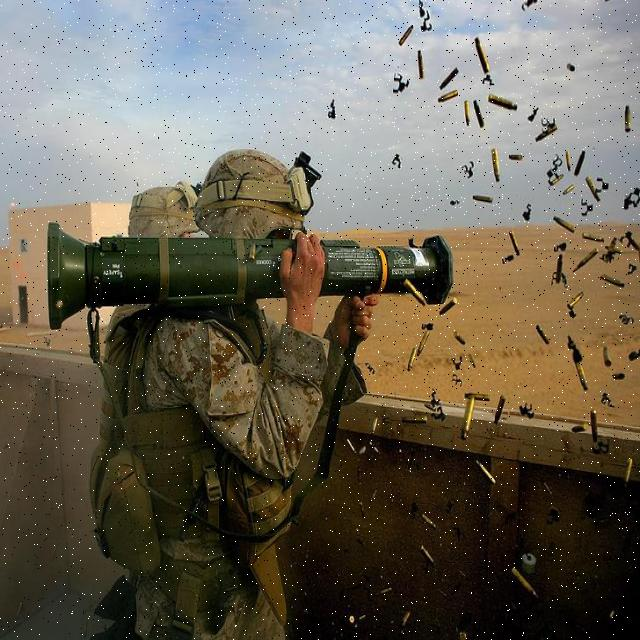bazooka: (42, 221, 460, 339)
